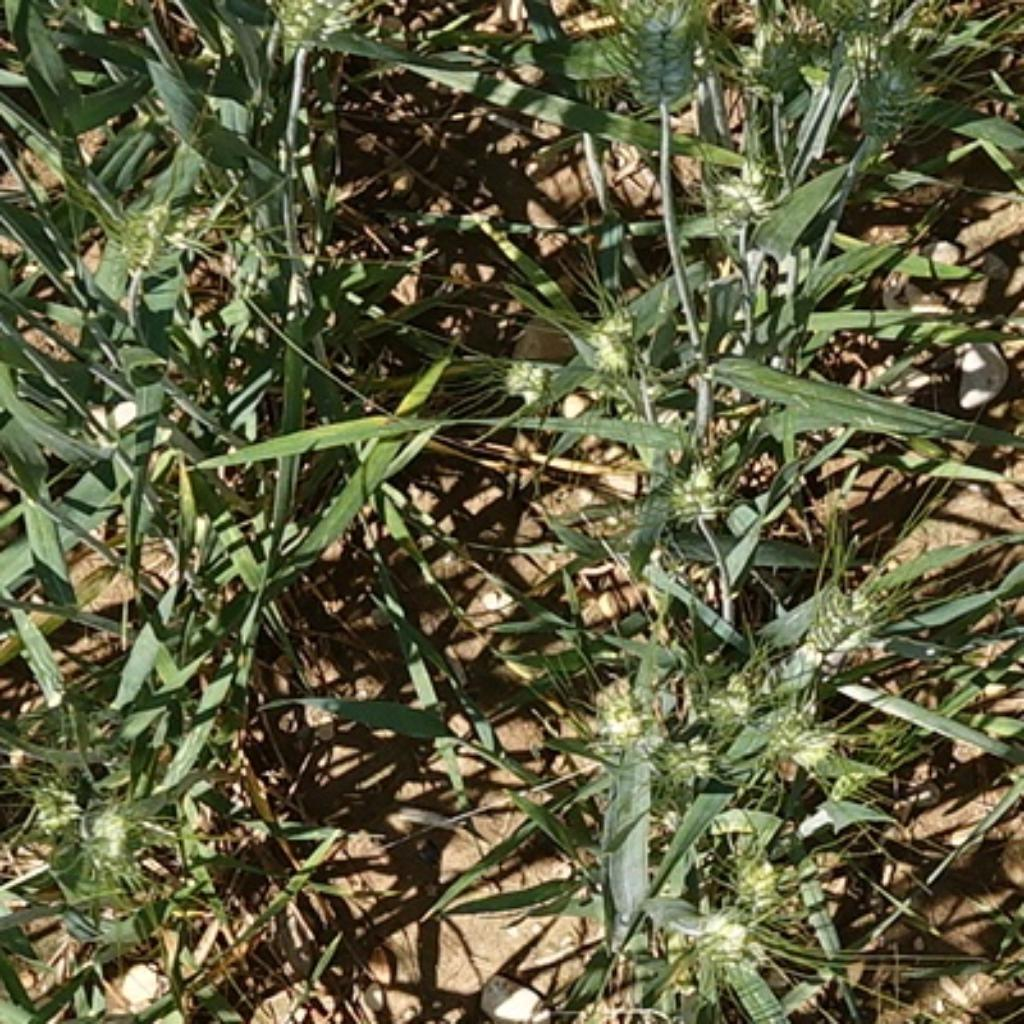0-0: (829, 10, 944, 140), (593, 2, 716, 110), (48, 783, 151, 888), (576, 664, 683, 765), (739, 7, 839, 94), (665, 893, 762, 980), (804, 563, 895, 648), (688, 153, 775, 232), (122, 192, 204, 275), (570, 289, 647, 376), (721, 826, 793, 911), (268, 0, 365, 62), (666, 454, 738, 523), (23, 783, 87, 832), (494, 348, 552, 396), (676, 737, 729, 787), (778, 725, 839, 763), (703, 676, 755, 717)
